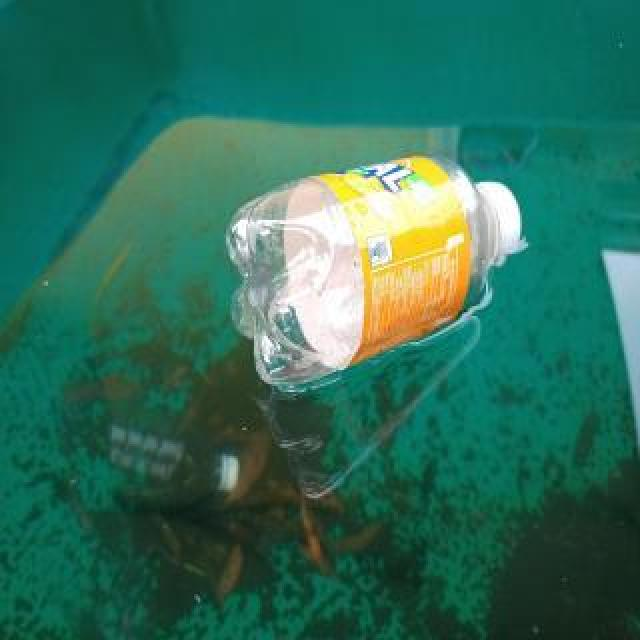bottle: (223, 145, 527, 395)
